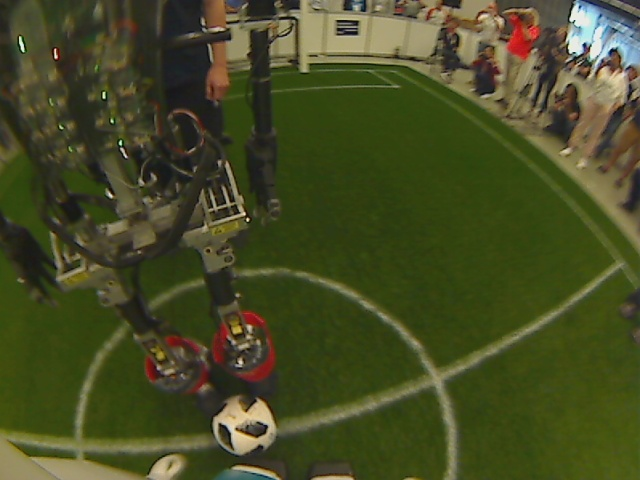ball: (208, 392, 283, 461)
